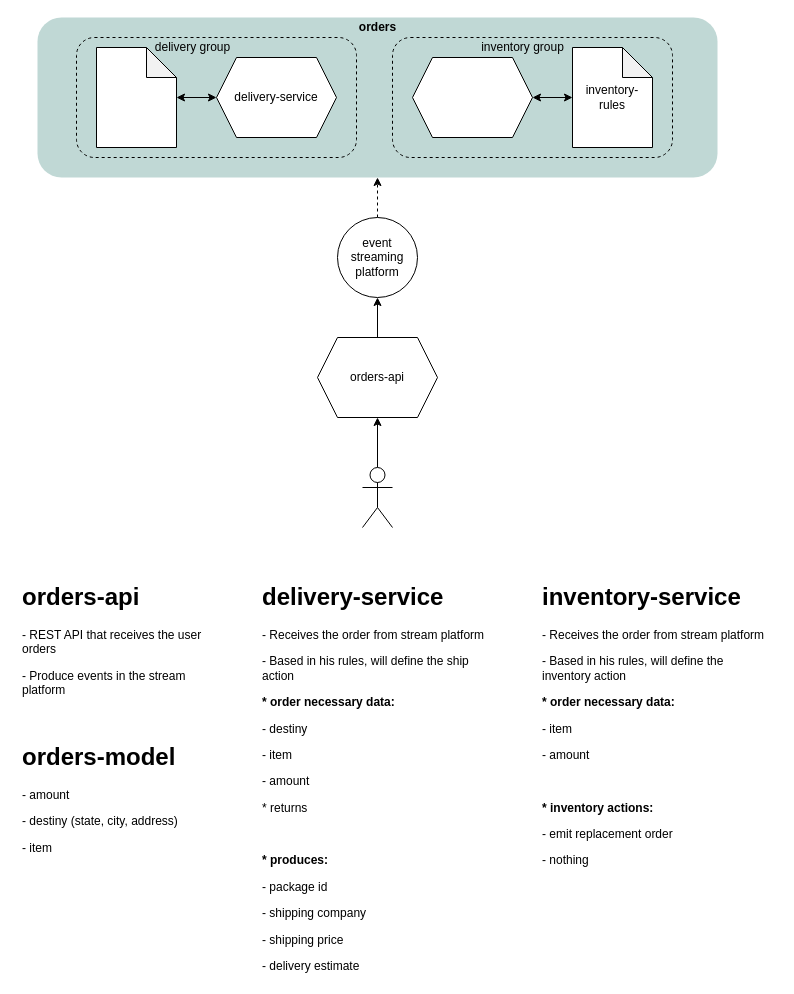
This 794x994 diagram has some shape labels left out. The centre of each missing label's shape, as x and y in pixels:
"delivery-rules" goes at pixel 136 97.
"inventory-service" goes at pixel 472 97.
